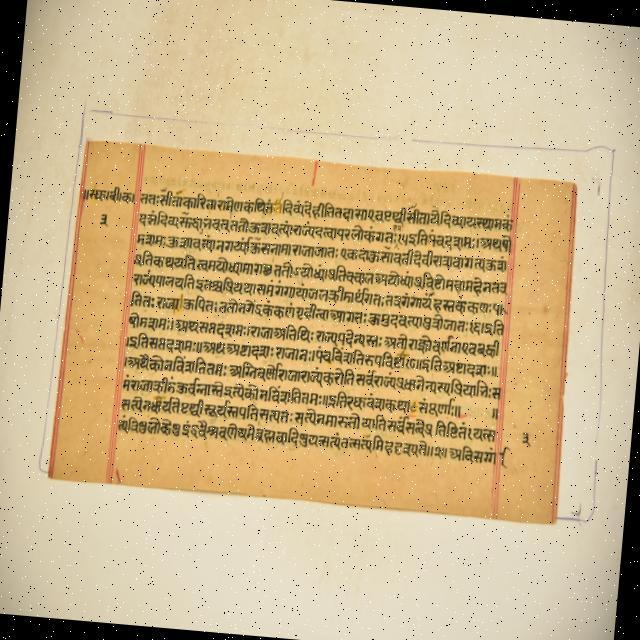text_paragraph: (48, 142, 573, 520)
